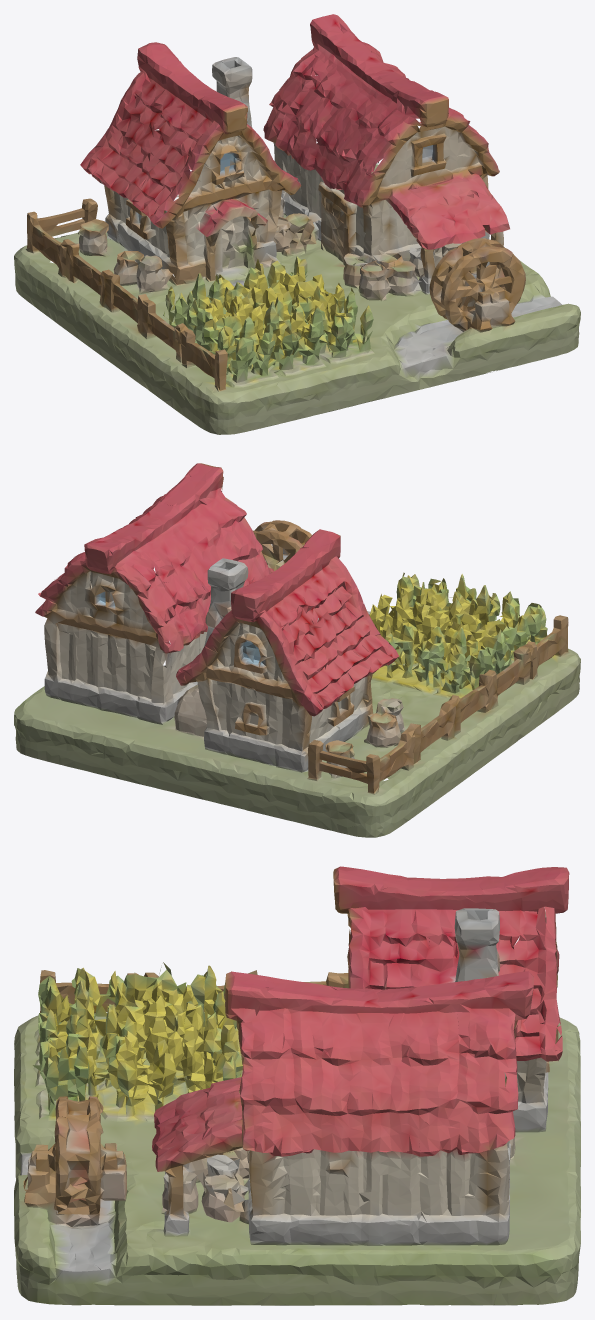
The model's file is building_farm_lod0.glb.
3 views of the same model, one above another, from view 1: azimuth 30°, elevation 25°; view 2: azimuth 150°, elevation 25°; view 3: azimuth 270°, elevation 25° (orthographic). The views are drawn at different scales.
Parts seen in each view (by area): view 1: world; view 2: world; view 3: world.
Boxes of the visible parts, bbox=[...] form: world: bbox=[14, 14, 580, 434]; world: bbox=[14, 463, 580, 837]; world: bbox=[14, 866, 580, 1305].
Size of the model in its own units: 1.9 by 1.02 by 1.85.
